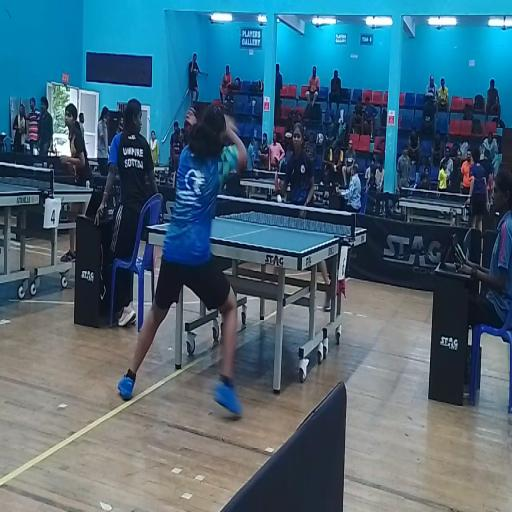ball: (277, 193, 282, 204)
